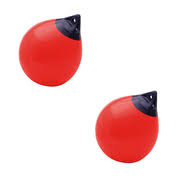buoy: (18, 20, 83, 88), (95, 97, 160, 164)
